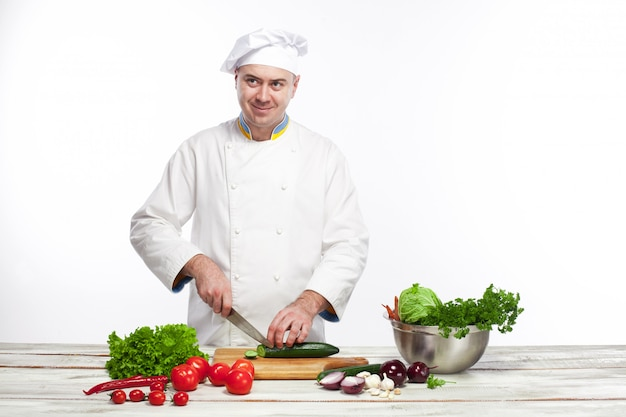knife: (215, 297, 274, 349)
